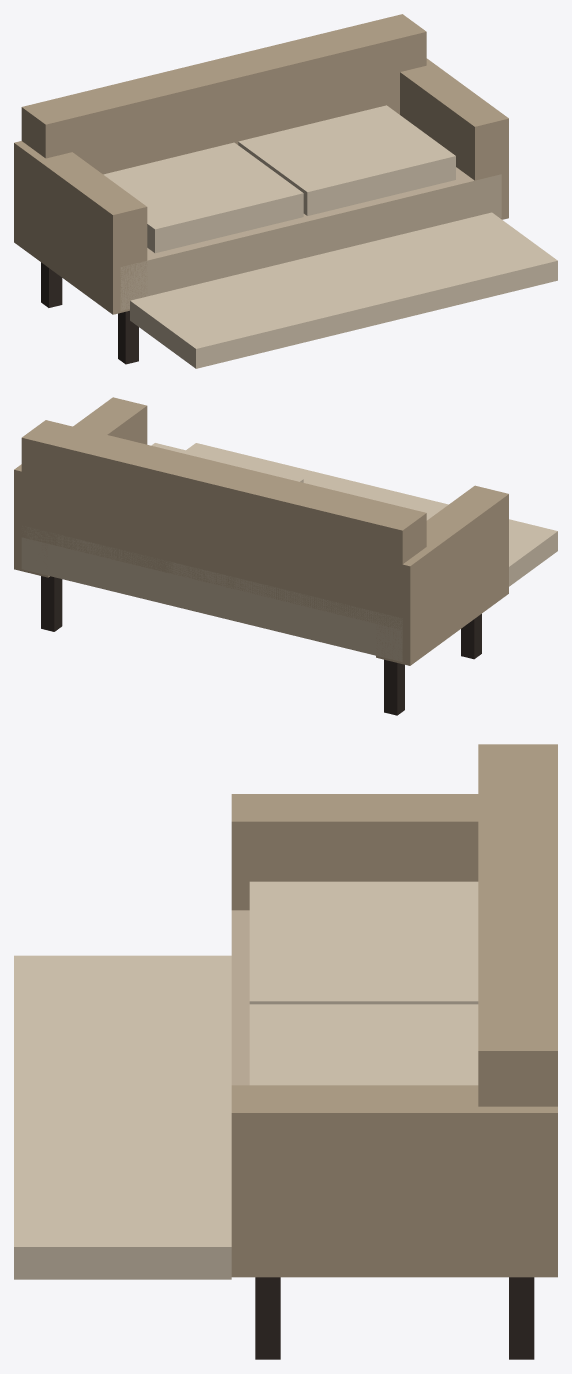
File: sofa_bed.glb
The picture shows the model from 3 angles, top to bottom: view 1: azimuth 30°, elevation 25°; view 2: azimuth 150°, elevation 25°; view 3: azimuth 270°, elevation 25°; orthographic projection. The views are drawn at different scales.
Parts seen in each view (by area): view 1: sofa_bed; view 2: sofa_bed; view 3: sofa_bed.
Part boxes in pixels (x1,y1,x2,y2): sofa_bed: (14,14,557,368); sofa_bed: (14,397,557,715); sofa_bed: (14,744,557,1359).
Size of the model in its own units: 2.08 by 0.97 by 1.5.
